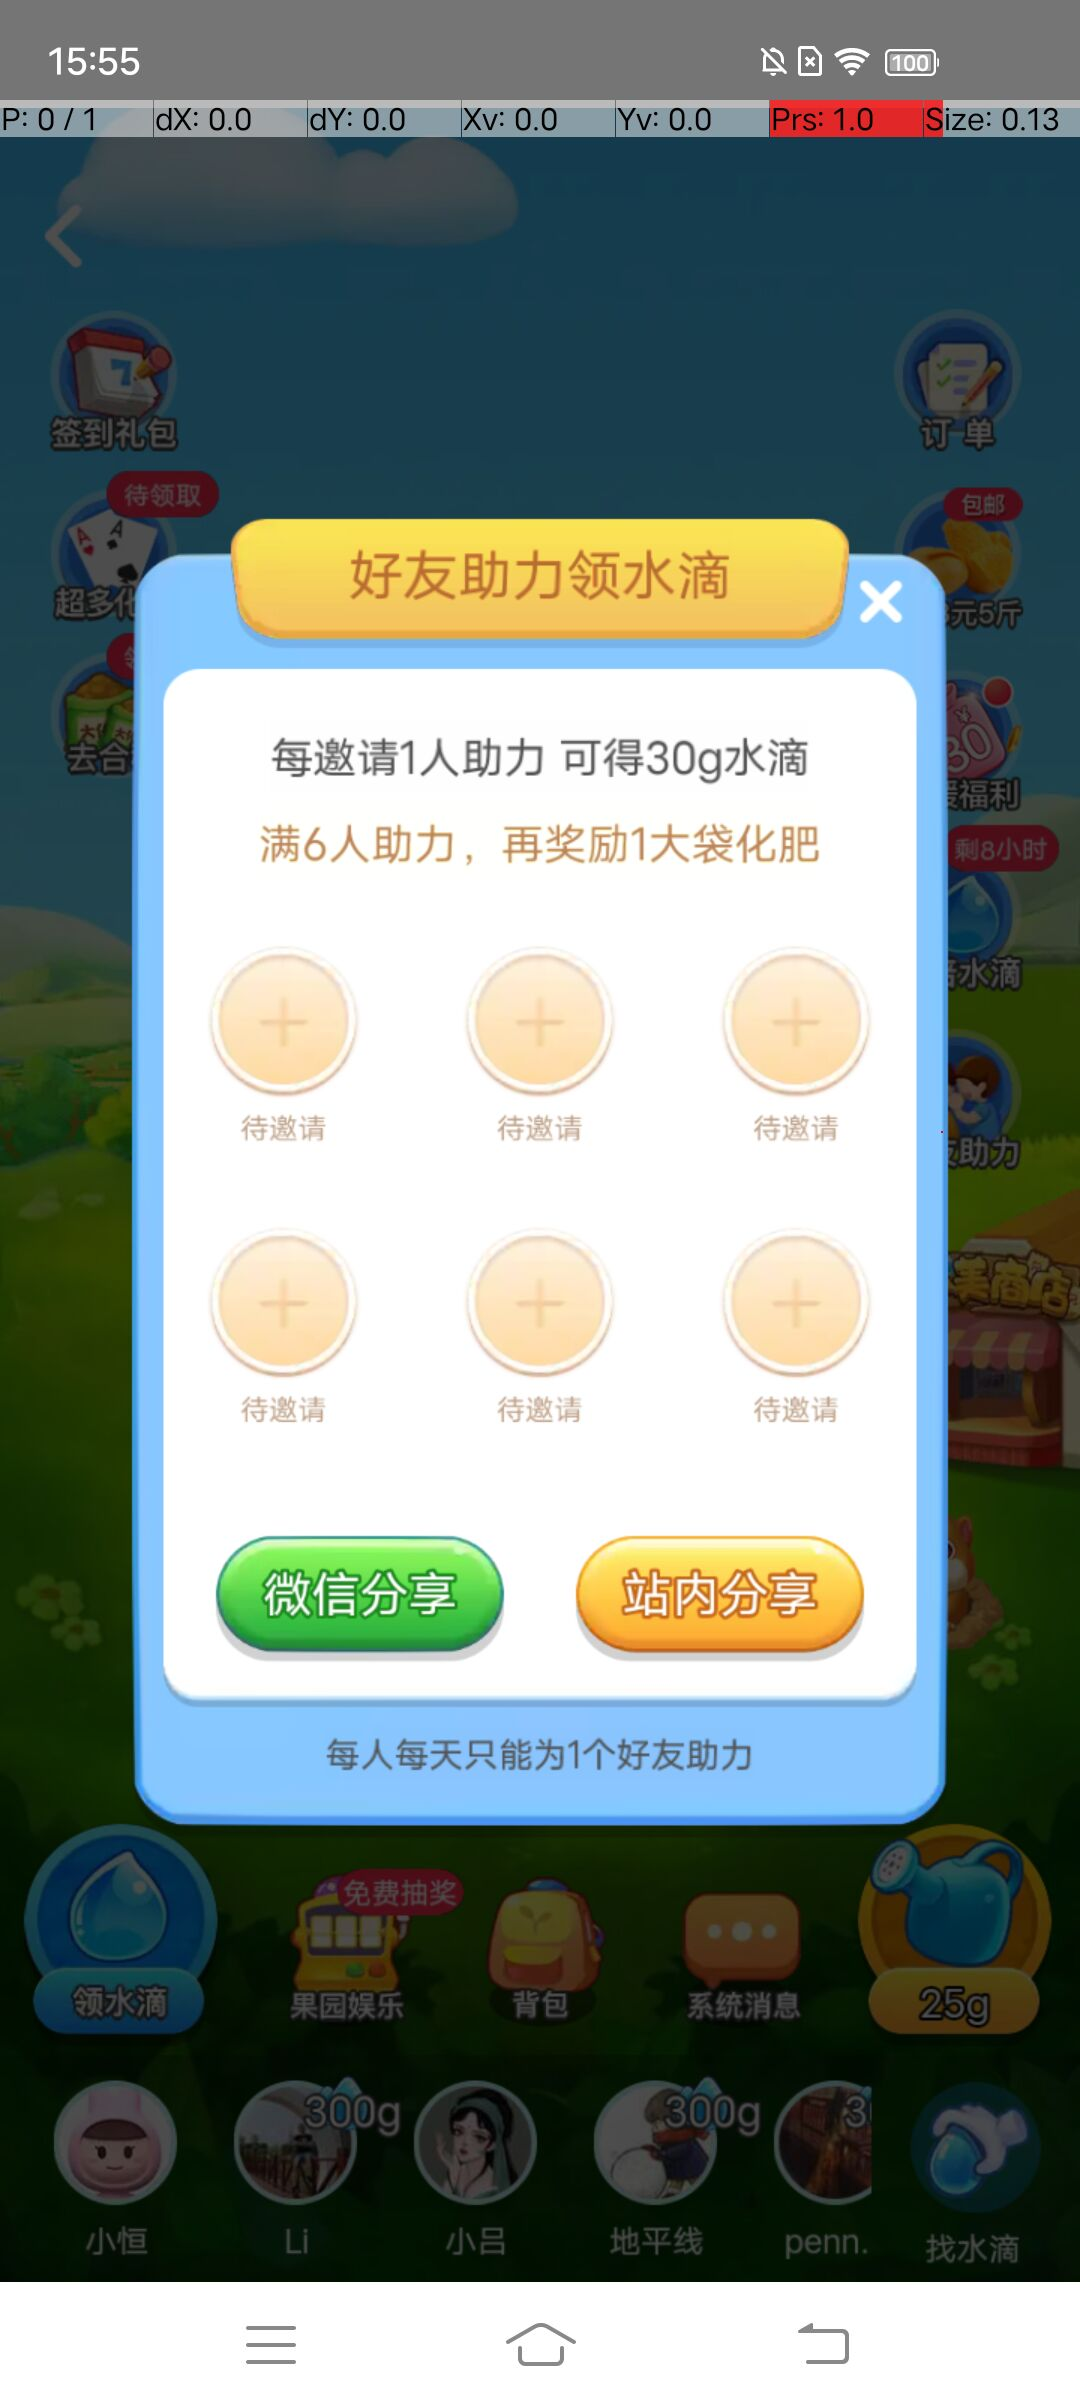popup: (857, 580, 922, 628)
